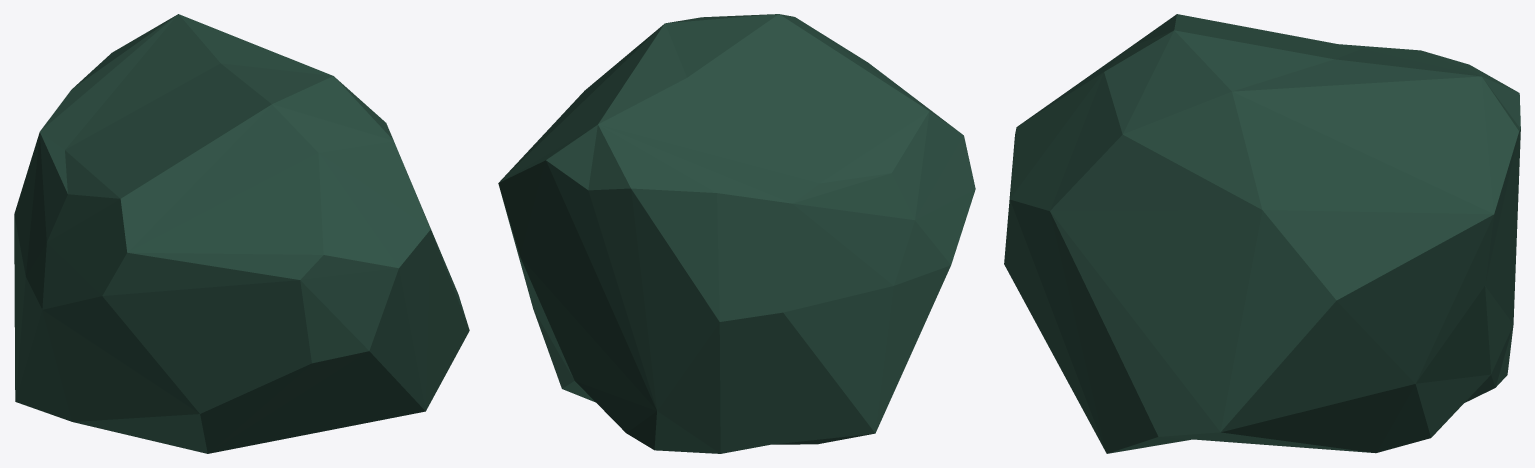
The model's file is SM_large_rock_31.fbx.
3 renders of one model, left to right at view 1: azimuth 30°, elevation 25°; view 2: azimuth 150°, elevation 25°; view 3: azimuth 270°, elevation 25°, orthographic. The views are drawn at different scales.
Parts seen in each view (by area): view 1: large_rock_31; view 2: large_rock_31; view 3: large_rock_31.
Boxes of the visible parts, <box> form: large_rock_31: <box>14,14,469,453</box>; large_rock_31: <box>498,14,975,453</box>; large_rock_31: <box>1004,14,1520,453</box>.
Bounding box in the file's own units: 90.13 × 69.63 × 87.93.
